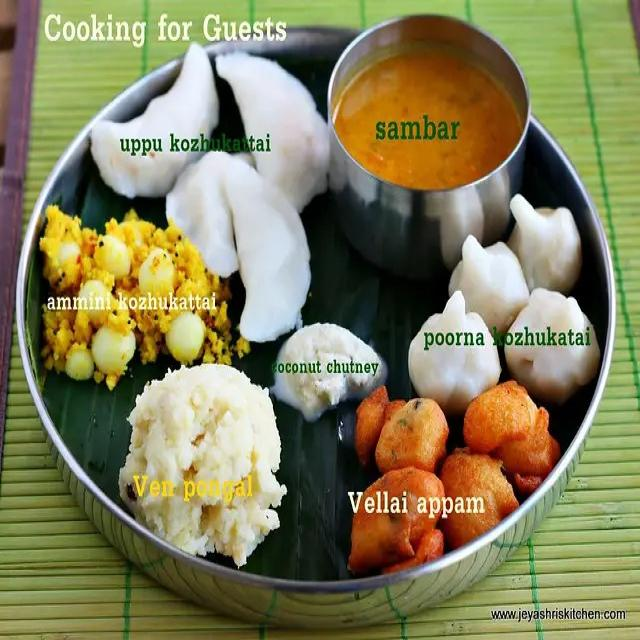poorna kolukattai: (101, 52, 315, 264), (419, 220, 601, 384)
sambar: (338, 21, 521, 190)
